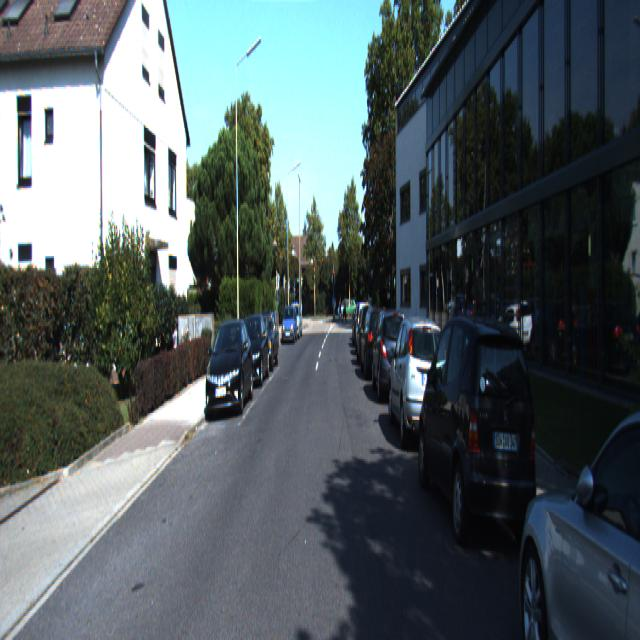Car: (516, 360, 639, 638), (417, 306, 542, 558), (388, 311, 452, 454), (204, 318, 254, 422), (371, 305, 414, 405), (234, 312, 270, 389), (360, 302, 393, 382), (250, 311, 280, 372), (281, 304, 298, 345)
